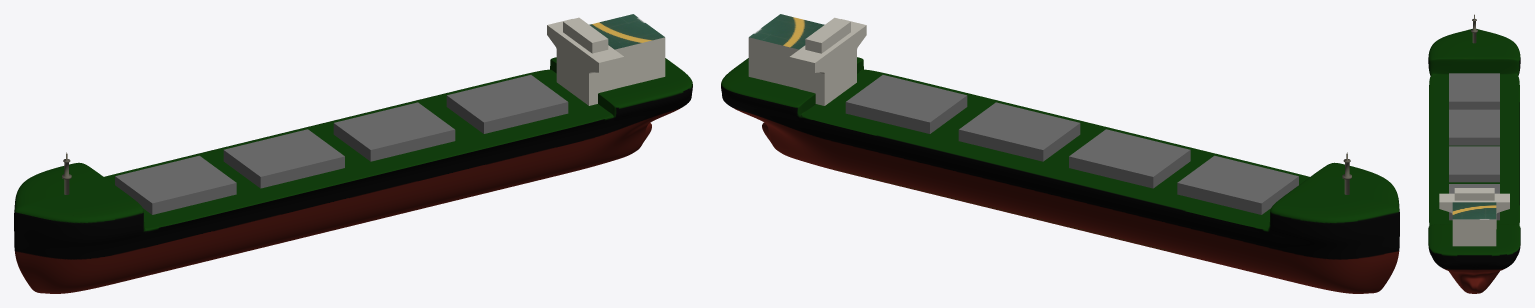
File: sanHuoShip1.glb
3 renders of one model, left to right at view 1: azimuth 30°, elevation 25°; view 2: azimuth 150°, elevation 25°; view 3: azimuth 270°, elevation 25°, orthographic. The views are drawn at different scales.
Parts seen in each view (by area): view 1: 主体, 货仓.003, 货仓.004, 货仓.002, 货仓.001, 指挥室, 停机坪; view 2: 主体, 货仓.003, 货仓.004, 货仓.002, 货仓.001, 指挥室, 停机坪; view 3: 主体, 停机坪, 货仓.001, 货仓.002, 货仓.003, 指挥室, 货仓.004, 电线杆.
Boxes of the visible parts, x1=… form: 主体: x1=14, y1=57, x2=692, y2=293; 货仓.003: x1=333, y1=102, x2=455, y2=161; 货仓.004: x1=446, y1=75, x2=568, y2=133; 货仓.002: x1=223, y1=129, x2=344, y2=188; 货仓.001: x1=115, y1=155, x2=236, y2=214; 指挥室: x1=547, y1=17, x2=624, y2=105; 停机坪: x1=589, y1=14, x2=665, y2=88; 主体: x1=721, y1=57, x2=1399, y2=293; 货仓.003: x1=958, y1=102, x2=1080, y2=161; 货仓.004: x1=845, y1=75, x2=967, y2=133; 货仓.002: x1=1069, y1=129, x2=1190, y2=188; 货仓.001: x1=1177, y1=155, x2=1298, y2=214; 指挥室: x1=789, y1=17, x2=866, y2=105; 停机坪: x1=748, y1=14, x2=824, y2=88; 主体: x1=1428, y1=28, x2=1520, y2=293; 停机坪: x1=1452, y1=202, x2=1496, y2=246; 货仓.001: x1=1449, y1=73, x2=1499, y2=109; 货仓.002: x1=1449, y1=109, x2=1499, y2=145; 货仓.003: x1=1449, y1=146, x2=1499, y2=182; 指挥室: x1=1439, y1=188, x2=1509, y2=228; 货仓.004: x1=1449, y1=184, x2=1499, y2=220; 电线杆: x1=1471, y1=14, x2=1477, y2=43.
Bounding box in the file's own units: 20.39 × 4.1 × 3.63.
5 materials, 2 textured.
